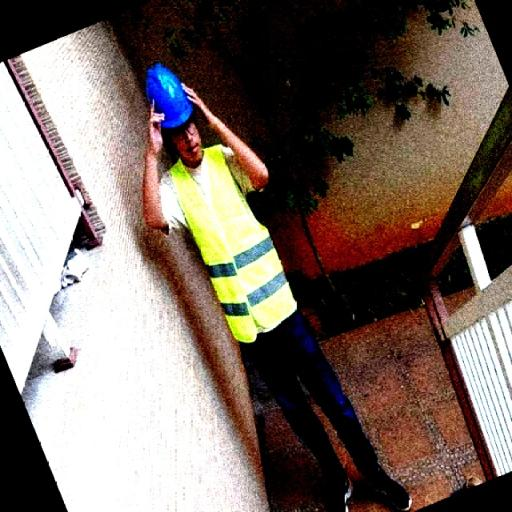Person: (124, 42, 429, 512)
boots: (358, 461, 424, 512), (320, 468, 357, 512)
helmet: (132, 63, 203, 134)
vest: (163, 149, 302, 350)
